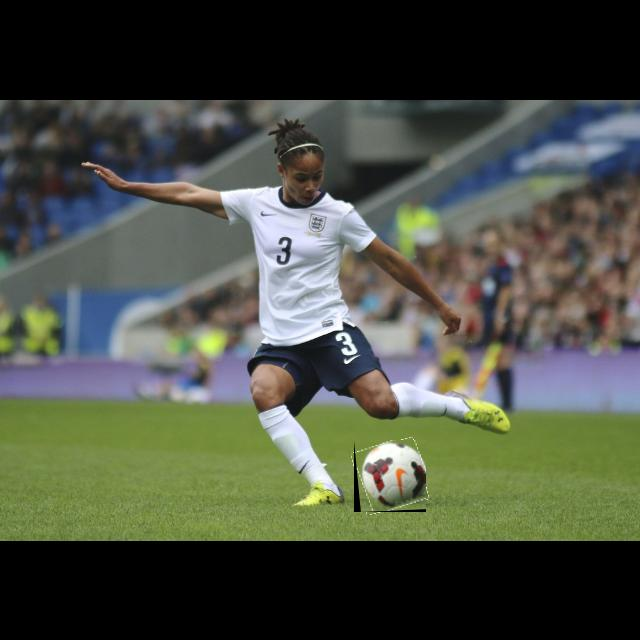Football: (354, 440, 426, 512)
